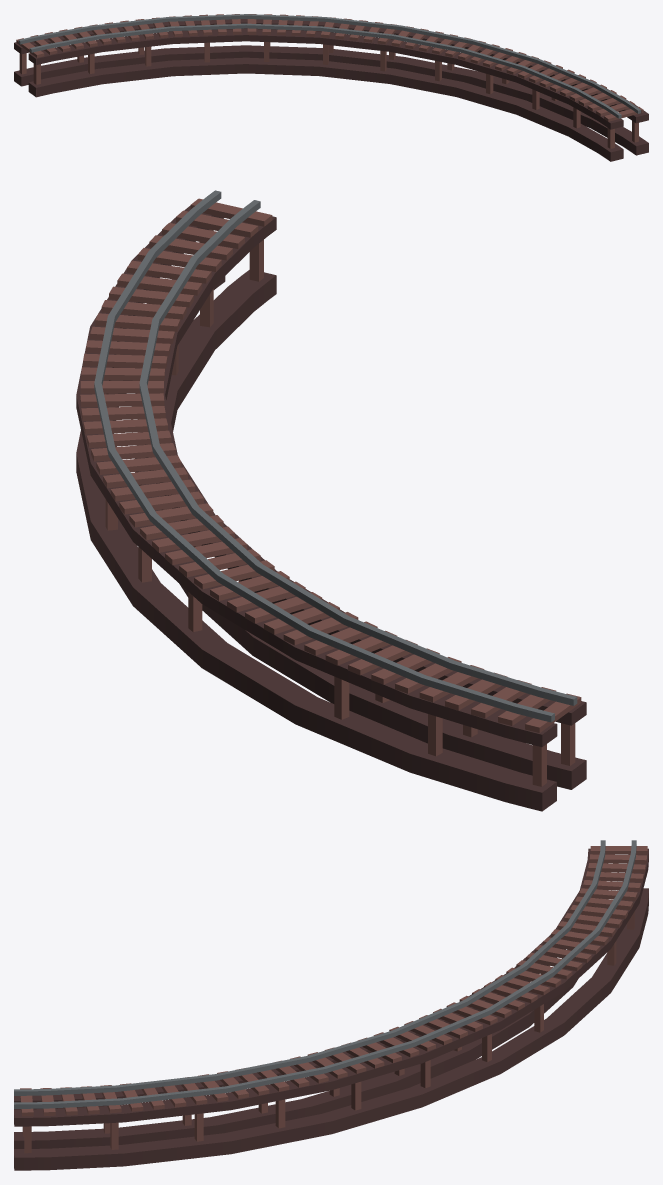
Rendered from DarkRoseWoodMechLarge0_85GaugeLeftTurn1.fbx.
The picture shows the model from 3 angles, top to bottom: view 1: azimuth 30°, elevation 25°; view 2: azimuth 150°, elevation 25°; view 3: azimuth 270°, elevation 25°; orthographic projection. The views are drawn at different scales.
Visible parts, largest first — view 1: DarkRoseWoodMechLarge0_85GaugeLeftTurn1; view 2: DarkRoseWoodMechLarge0_85GaugeLeftTurn1; view 3: DarkRoseWoodMechLarge0_85GaugeLeftTurn1.
Boxes of the visible parts, x1,y1,x2,y2 form: DarkRoseWoodMechLarge0_85GaugeLeftTurn1: [14, 14, 648, 161]; DarkRoseWoodMechLarge0_85GaugeLeftTurn1: [76, 190, 586, 811]; DarkRoseWoodMechLarge0_85GaugeLeftTurn1: [14, 840, 648, 1170].
Bounding box in the file's own units: 2098 × 221 × 2090.
